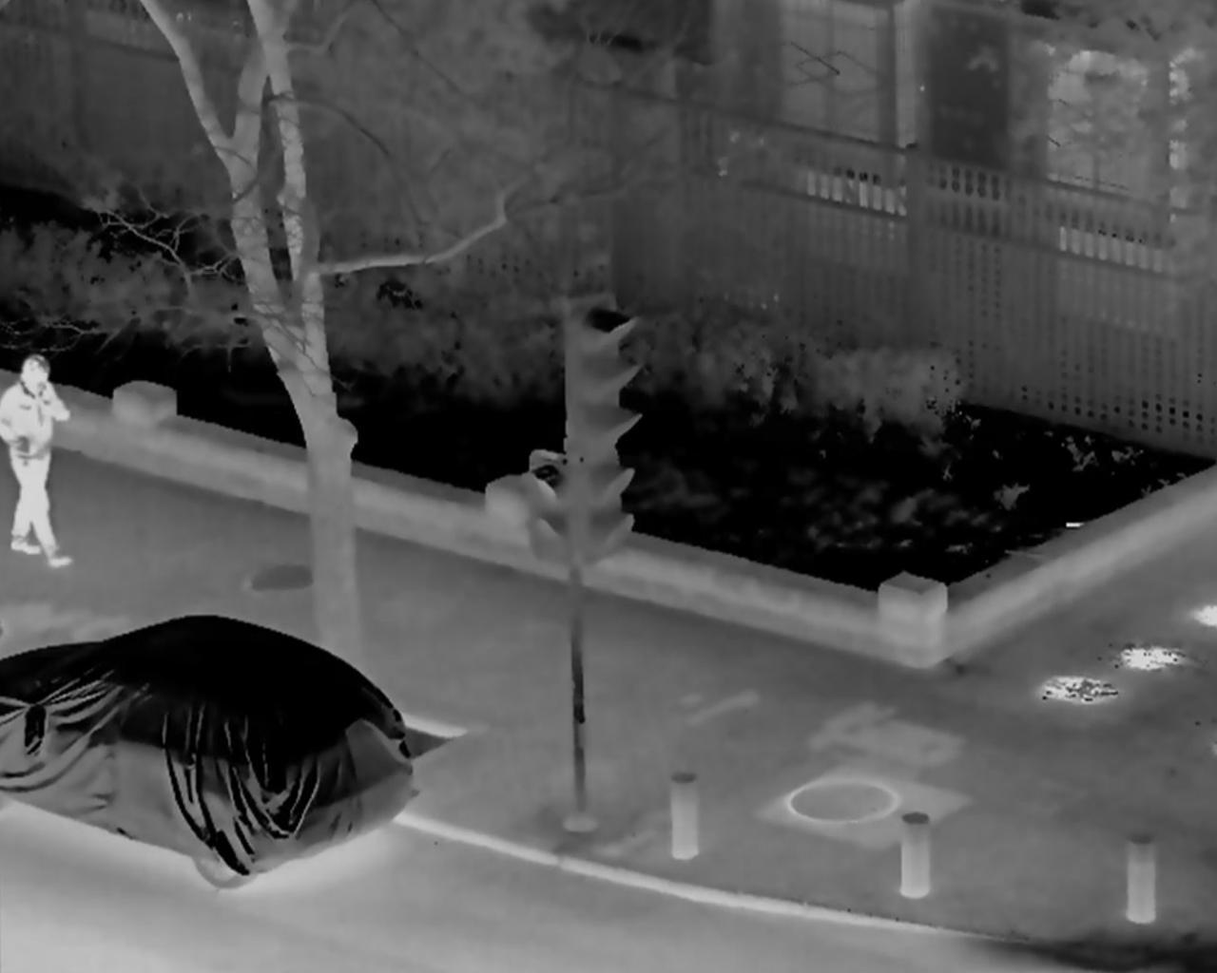person: (3, 354, 72, 561)
